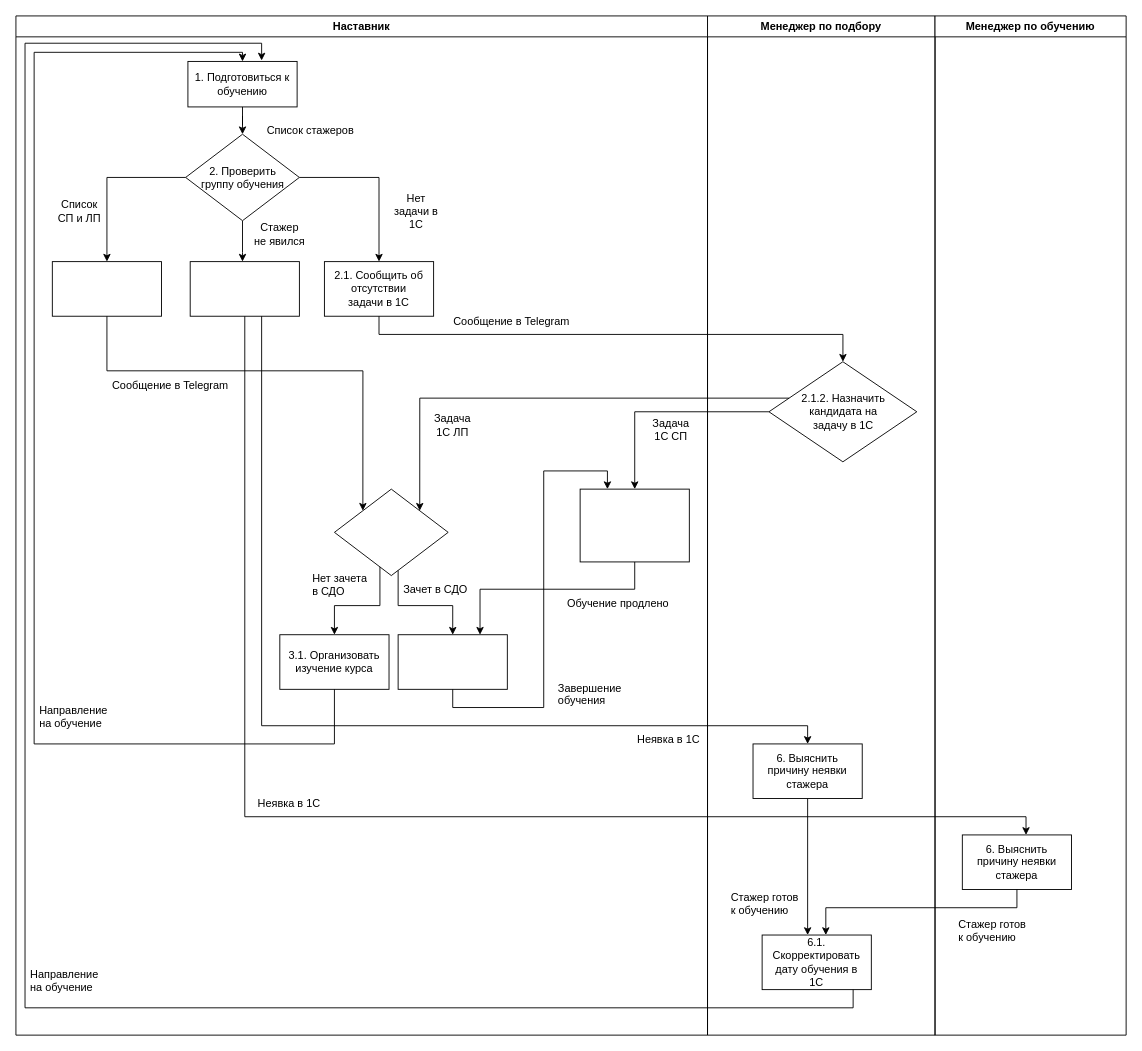
Image size: 1142x1051. Some labels were removed from this diagram. The centre of each missing label's shape, as x and y in pixels:
"2.2. Поставить неявку в задаче в 1С" belongs at point (244, 288).
"2.3. Рассказать стажеру о правилах стажировки" belongs at point (106, 288).
"3. Проверить прогресс курса в СДО" belongs at point (391, 532).
"4. Провести практическое обучение" belongs at point (452, 661).
"5. Оценить готовность стажера к самостоятельной работе" belongs at point (634, 525).
